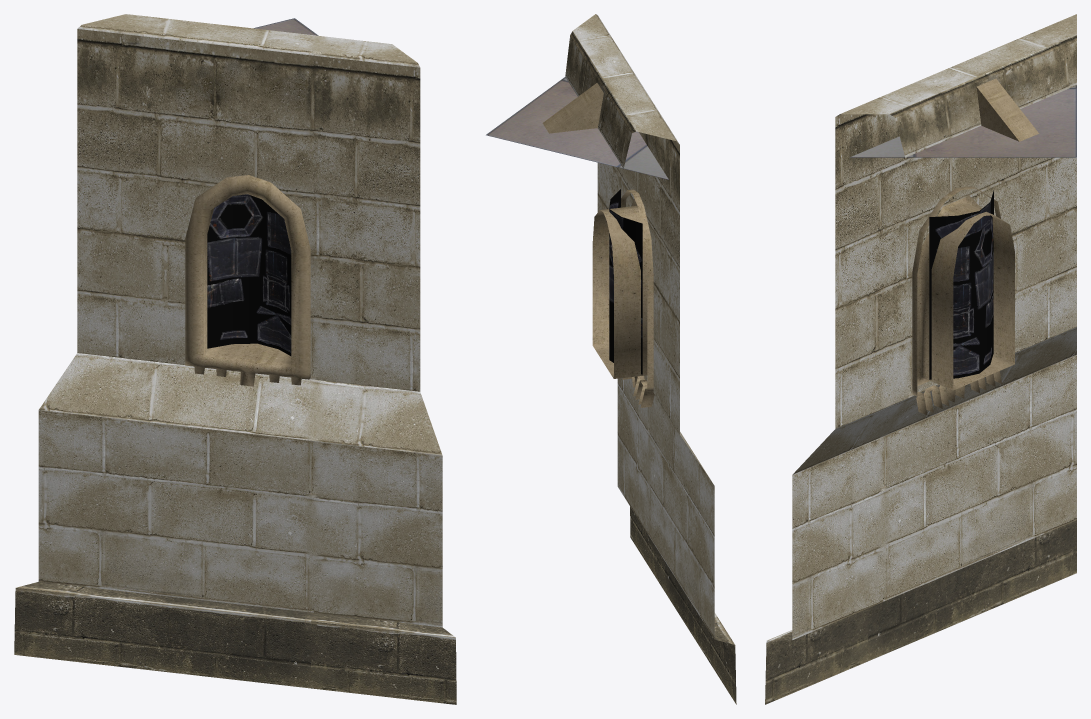
File: castle-wall-45d-w-window-small.fbx
The picture shows the model from 3 angles, left to right: view 1: azimuth 30°, elevation 25°; view 2: azimuth 150°, elevation 25°; view 3: azimuth 270°, elevation 25°; orthographic projection. The views are drawn at different scales.
Visible parts, largest first — view 1: castle-wall-45d-w-window-small; view 2: castle-wall-45d-w-window-small; view 3: castle-wall-45d-w-window-small.
Part boxes in pixels (x1=…): castle-wall-45d-w-window-small: x1=14, y1=14, x2=456, y2=704; castle-wall-45d-w-window-small: x1=486, y1=14, x2=736, y2=704; castle-wall-45d-w-window-small: x1=765, y1=14, x2=1076, y2=704.
Size of the model in its own units: 191 by 400 by 191.
